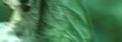Tomato leaf late blight: (0, 0, 110, 42)
